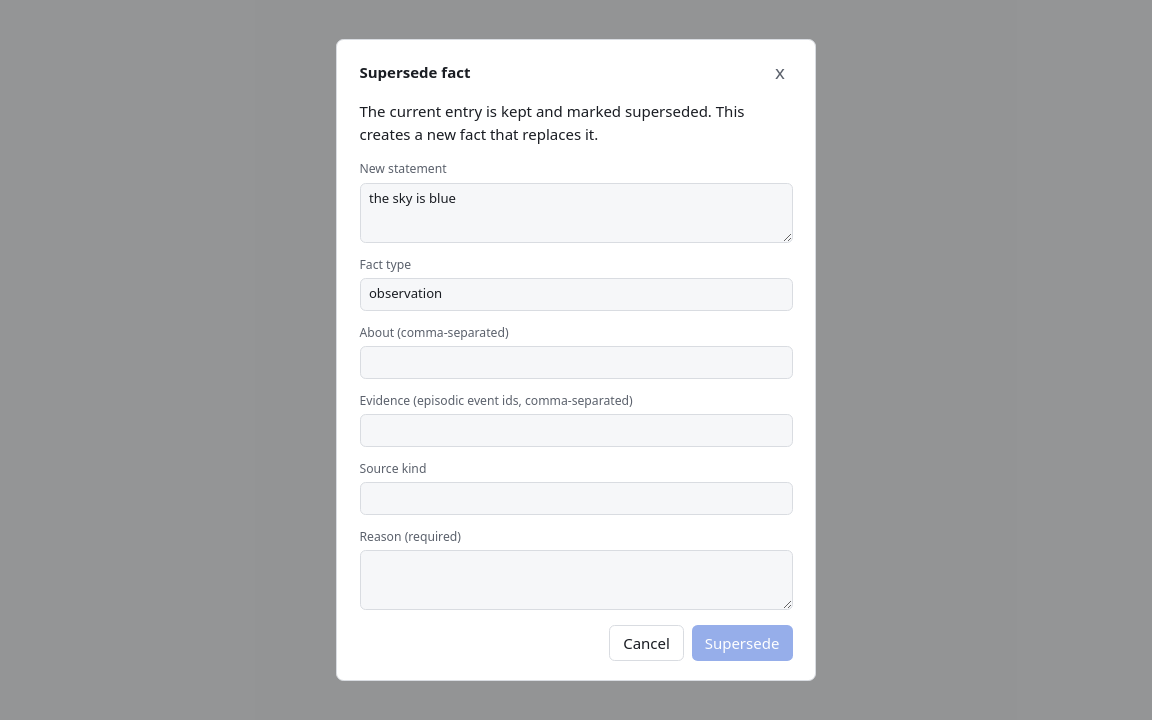
Scenario: Amend and supersede dialogs › Supersede reads as 'replace with a new version' and disables submit until a reason is typed
Expected: the text "kept and marked superseded" is shown, [360,102,744,144]
Expected: the button "Supersede" is disabled, [692,625,792,661]
Type "newer evidence" into the text box labelled "Reason (required)" at (576, 580), box [360,550,792,610]
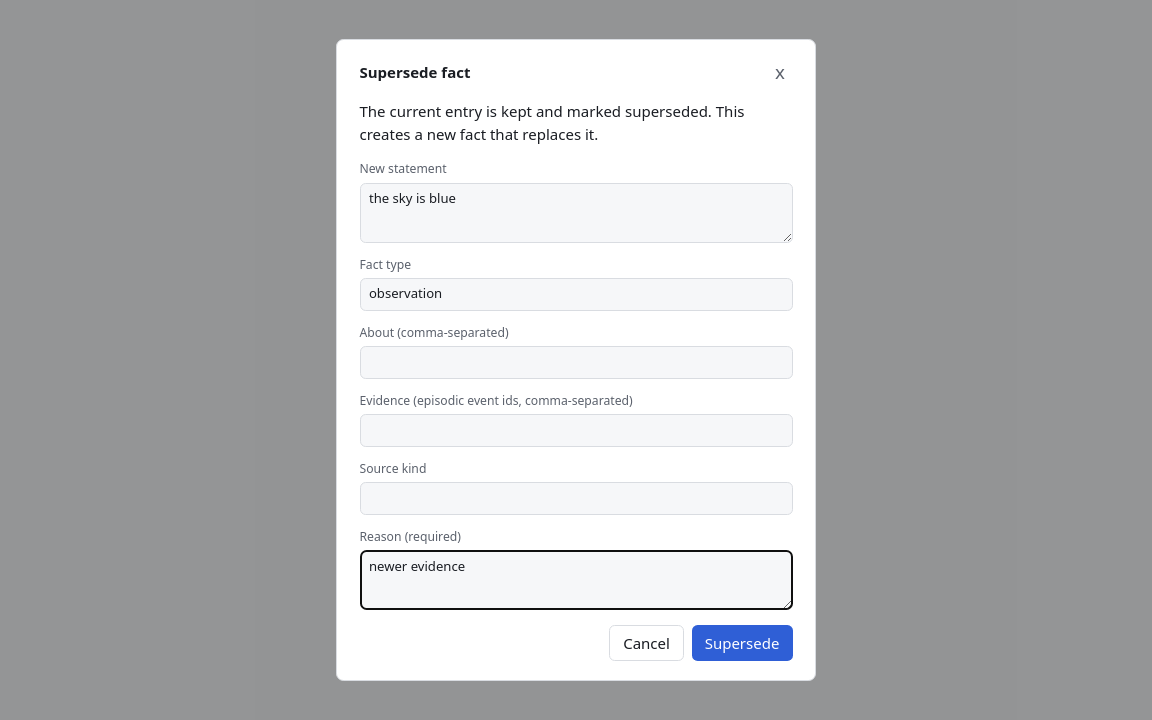
Now the button "Supersede" is enabled, box [692,625,792,661]
